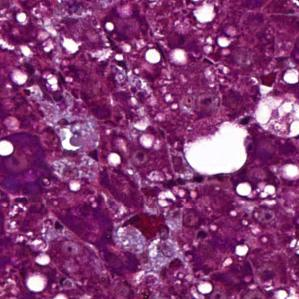ballooning: (253, 87, 299, 141)
